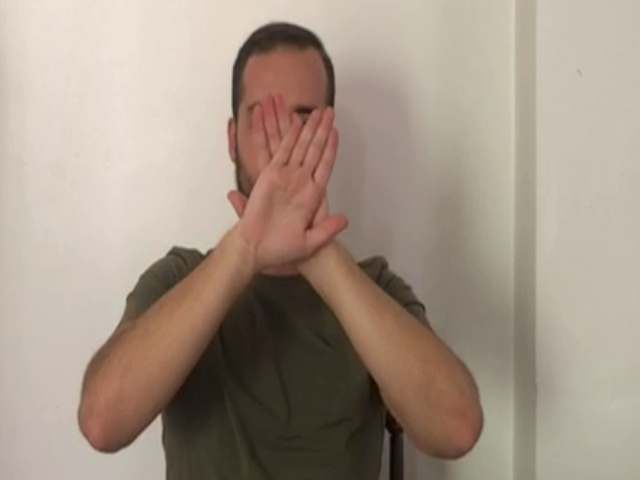Stemneto: (224, 91, 352, 276)
